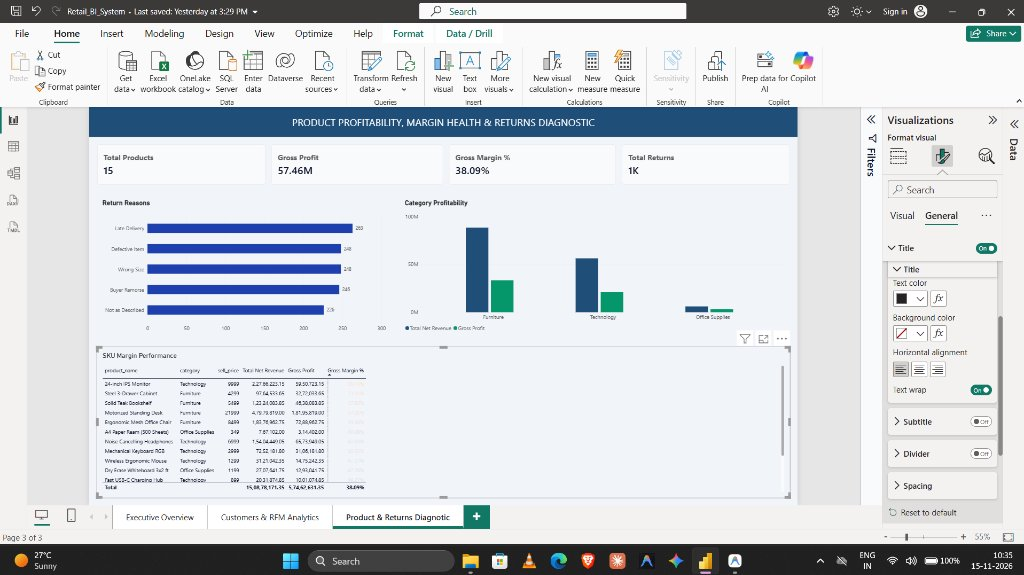

The dashboard page shown, as its layout file describes it:
{"tool":"powerbi","page":{"name":"Product & Returns Diagnotic","canvas":[1920,1080],"ordinal":2},"visuals":[{"type":"cardVisual","fields":{"Data":["_Measures.Total Products"]},"box":[21.7,101.3,456,110.4],"z":0},{"type":"cardVisual","fields":{"Data":["_Measures.Gross Profit"]},"box":[494,101.3,465.1,110.4],"z":1000},{"type":"cardVisual","fields":{"Data":["_Measures.Gross Margin %"]},"box":[975.4,101.3,452.4,110.4],"z":2000},{"type":"cardVisual","fields":{"Data":["_Measures.Total Returns"]},"box":[1444.1,101.3,454.2,110.4],"z":3000},{"type":"clusteredBarChart","title":"Return Reasons","fields":{"Category":["Fact_Returns.reason"],"Y":["_Measures.Total Returns"]},"box":[20,235,800,395],"z":4000},{"type":"clusteredColumnChart","title":"Category Profitability","fields":{"Category":["Dim_Products.category"],"Y":["_Measures.Total Net Revenue","_Measures.Gross Profit"]},"box":[840,235,1060,395],"z":5000},{"type":"tableEx","title":"SKU Margin Performance","fields":{"Values":["Dim_Products.product_name","Dim_Products.category","Dim_Products.sell_price","_Measures.Total Net Revenue","_Measures.Gross Profit","_Measures.Gross Margin %"]},"box":[20,650,1880,410],"z":6000},{"type":"shape","box":[0,0,1920.1,81.4],"z":7000},{"type":"textbox","box":[0,23.5,1920.1,57.9],"z":8000}]}

Visuals, with their boxes on the page's 1920x1080 design canvas (x1, y1, x2, y2). These are canvas units, not pixel positions in the 1024x575 screenshot, which may show the page scaled, cropped or inside an application window:
cardVisual - _Measures.Total Products: 22:101:478:212
cardVisual - _Measures.Gross Profit: 494:101:959:212
cardVisual - _Measures.Gross Margin %: 975:101:1428:212
cardVisual - _Measures.Total Returns: 1444:101:1898:212
"Return Reasons" clusteredBarChart: 20:235:820:630
"Category Profitability" clusteredColumnChart: 840:235:1900:630
"SKU Margin Performance" tableEx: 20:650:1900:1060
shape: 0:0:1920:81
textbox: 0:24:1920:81
